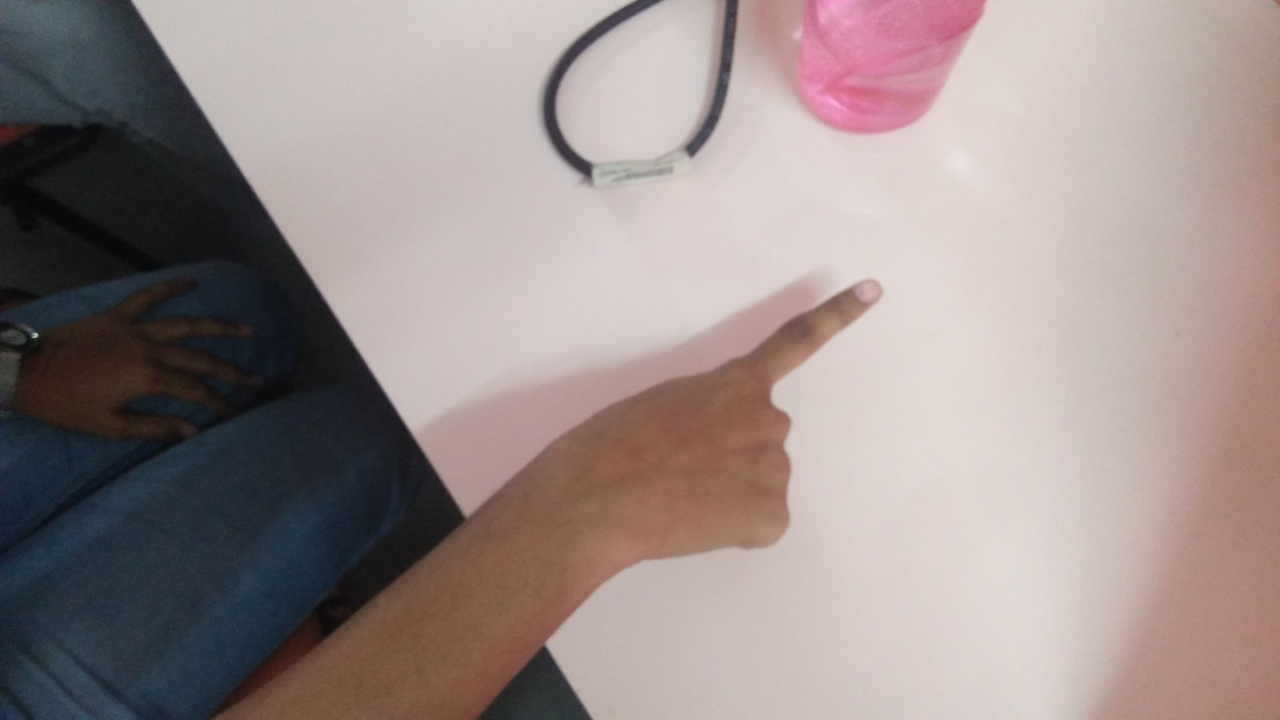fingertip: (820, 262, 902, 316)
